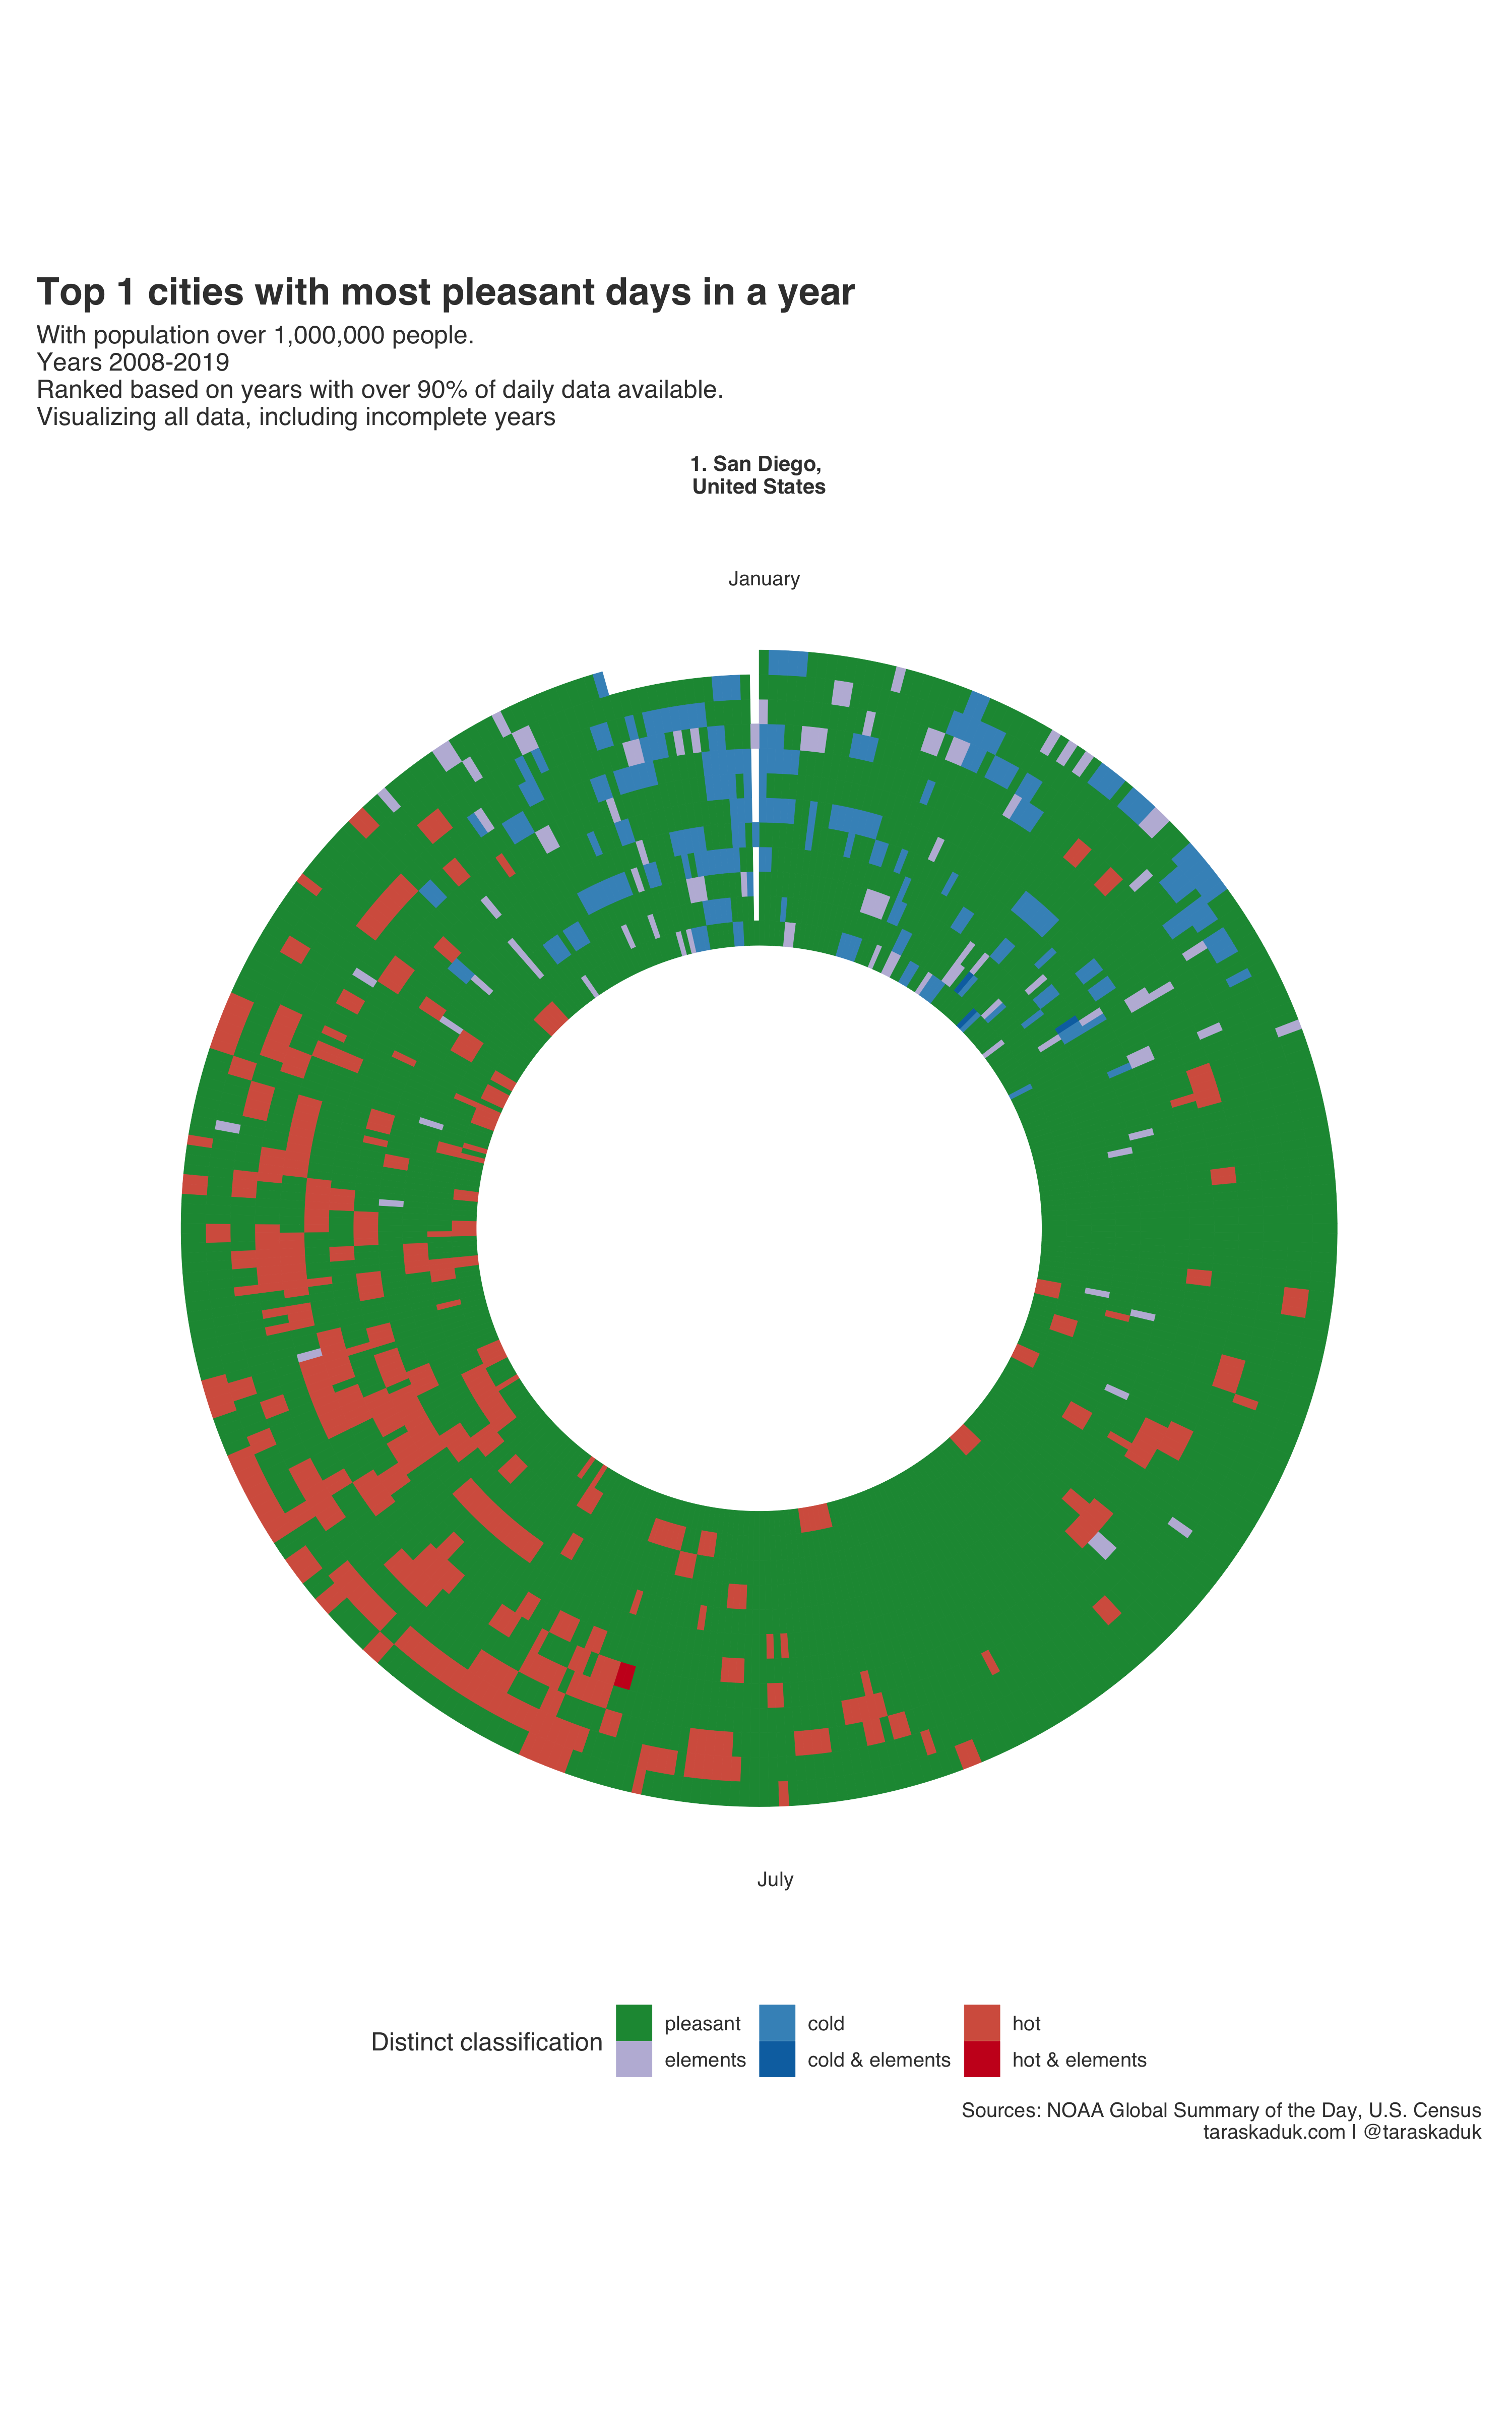

This screenshot's page, from the dashboard's own definition file:
{"tool":"tableau","page":{"name":"Radial Stack Bar Charts","canvas":[900,800],"ordinal":0},"visuals":[{"type":"worksheet","title":"radial stacked bar","mark":"Polygon","box":[0,0,796,800]},{"type":"legend","title":"radial stacked bar","param":"[federated.0d4brrl0id6ggj1ffol9q0xiccq4].[none:Calculation_4518799278402621453:n","box":[796,0,104,90]},{"type":"parameter","param":"[Parameters].[Parameter 4]","box":[796,90,104,52]},{"type":"parameter","param":"[Parameters].[Parameter 1]","box":[796,142,104,52]},{"type":"parameter","param":"[Parameters].[Parameter 2]","box":[796,194,104,52]},{"type":"parameter","param":"[Parameters].[Parameter 3]","box":[796,246,104,52]},{"type":"worksheet","title":"social","mark":"Shape","cols":["Platform"],"box":[840,770,60,30]}]}

Visuals, with their boxes on the page's 900x800 design canvas (x1, y1, x2, y2). These are canvas units, not pixel positions in the 1512x2420 screenshot, which may show the page scaled, cropped or inside an application window:
"radial stacked bar" worksheet (Polygon marks): x1=0 y1=0 x2=796 y2=800
"radial stacked bar" legend: x1=796 y1=0 x2=900 y2=90
parameter: x1=796 y1=90 x2=900 y2=142
parameter: x1=796 y1=142 x2=900 y2=194
parameter: x1=796 y1=194 x2=900 y2=246
parameter: x1=796 y1=246 x2=900 y2=298
"social" worksheet (Shape marks): x1=840 y1=770 x2=900 y2=800
